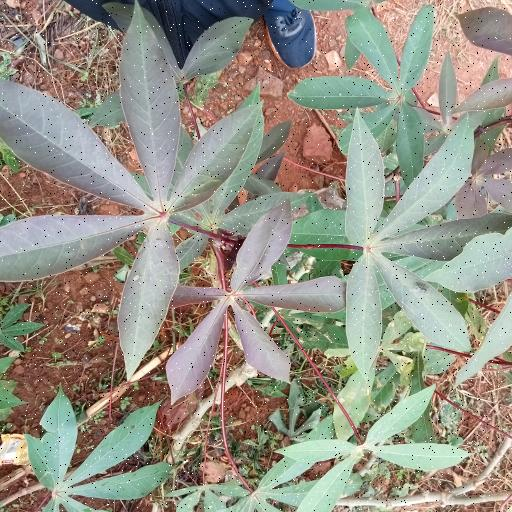Cassava_Healthy: (0, 24, 259, 383), (349, 112, 512, 376), (150, 201, 348, 404)
